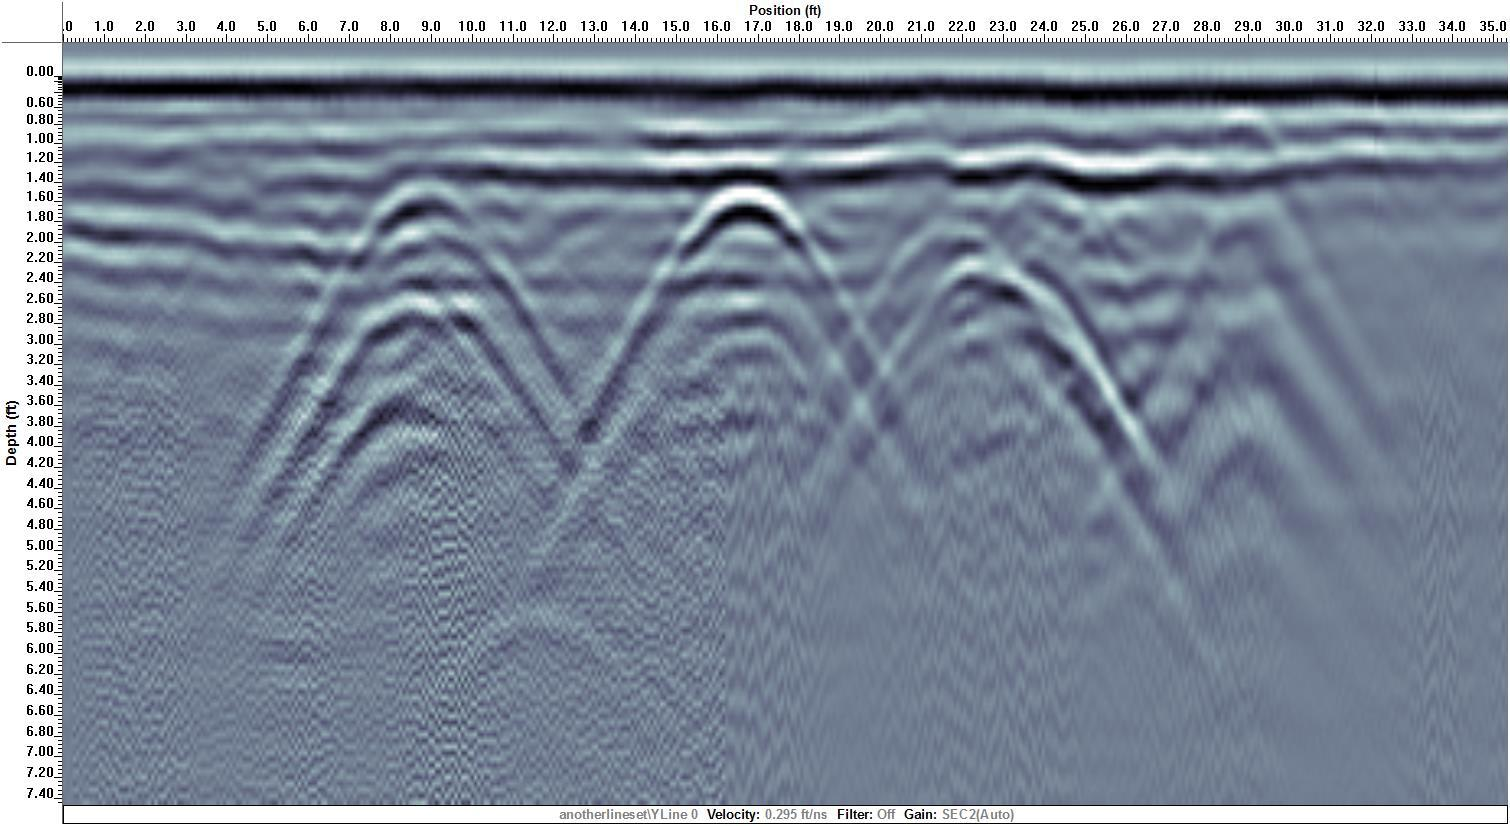Hyperbola: (768, 218, 1231, 692), (206, 115, 631, 629), (605, 135, 917, 591)
